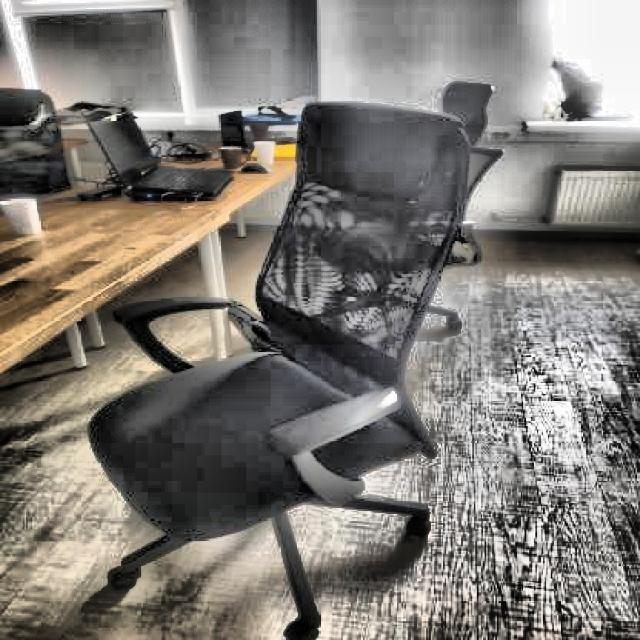cadeira: (77, 92, 483, 640)
